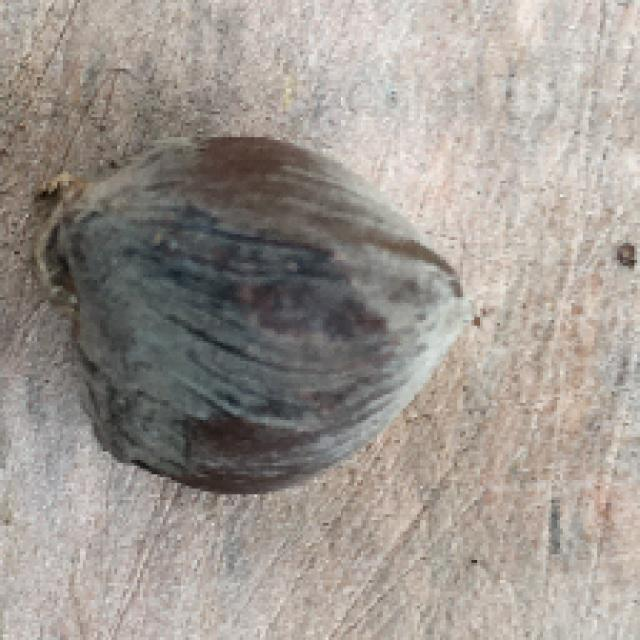damagedHazelnut: (28, 119, 479, 510)
